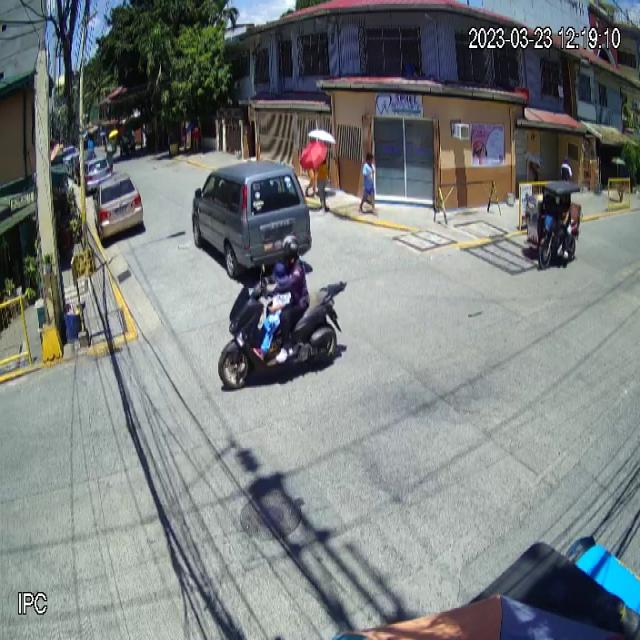Car: (192, 161, 314, 278)
Motorcycle: (216, 263, 348, 391)
Tricycle: (524, 180, 584, 271)
